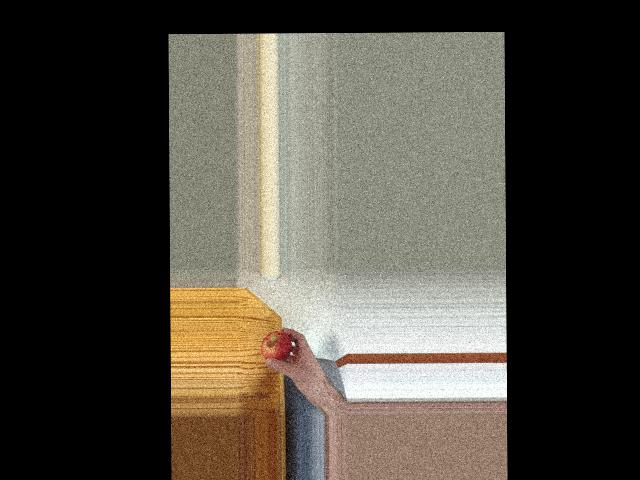apple: (259, 330, 294, 365)
